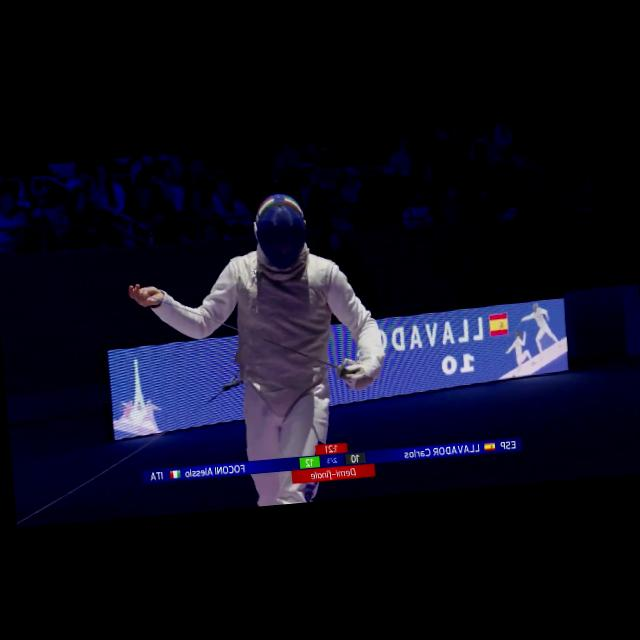blade: (128, 266, 362, 406)
